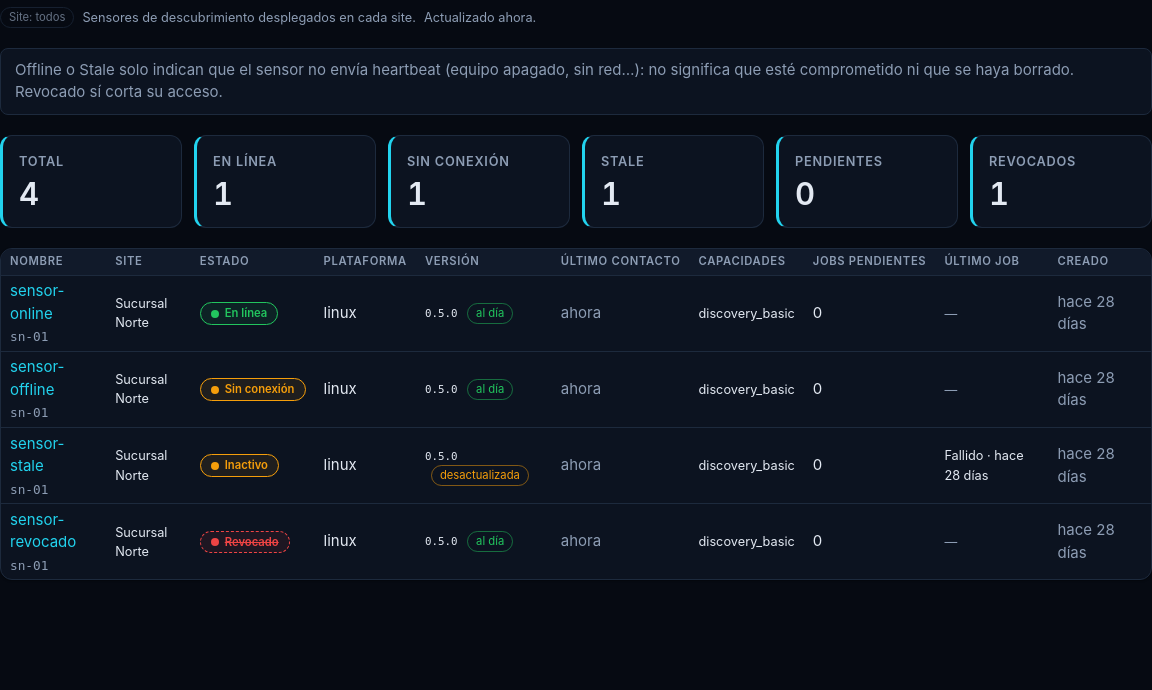
Test case: SensorsPage › abre el detalle con los jobs del sensor
The image size is (1152, 690).
Step 1. Click the button "sensor-stale" → (54, 455), box [10,432,97,478]
(page scrolled)
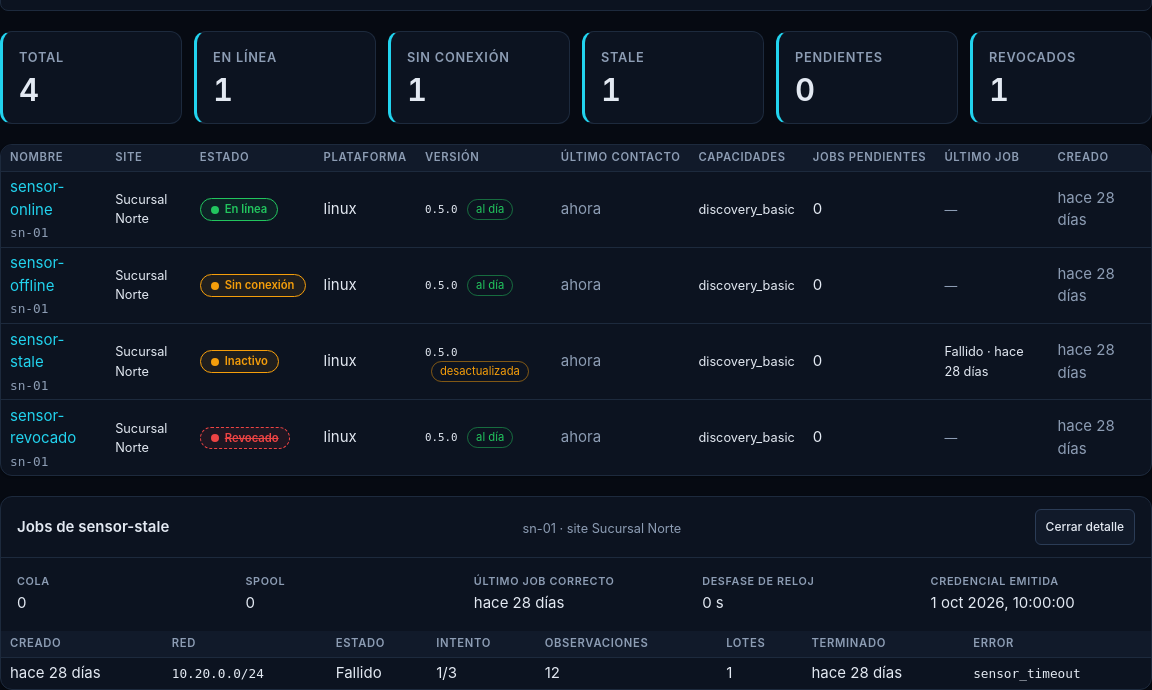
Check: the text "sensor_timeout" is shown, box [964,657,1151,689]
